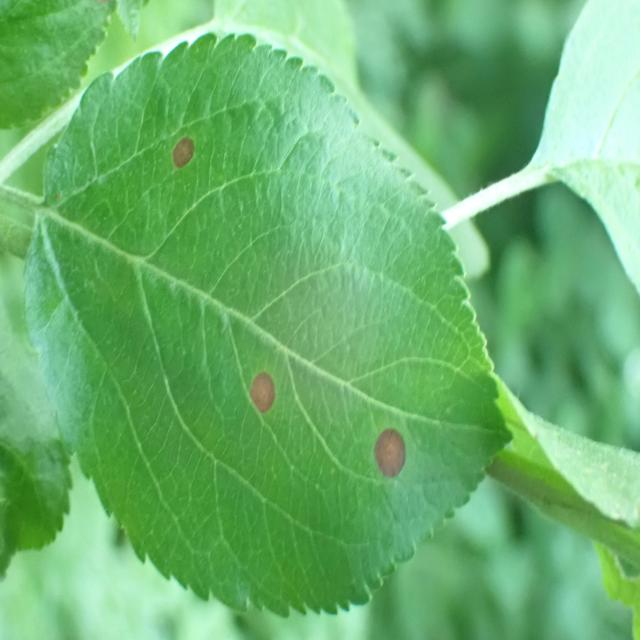Black Rot: (157, 118, 212, 202), (234, 350, 283, 437), (370, 414, 413, 492)
